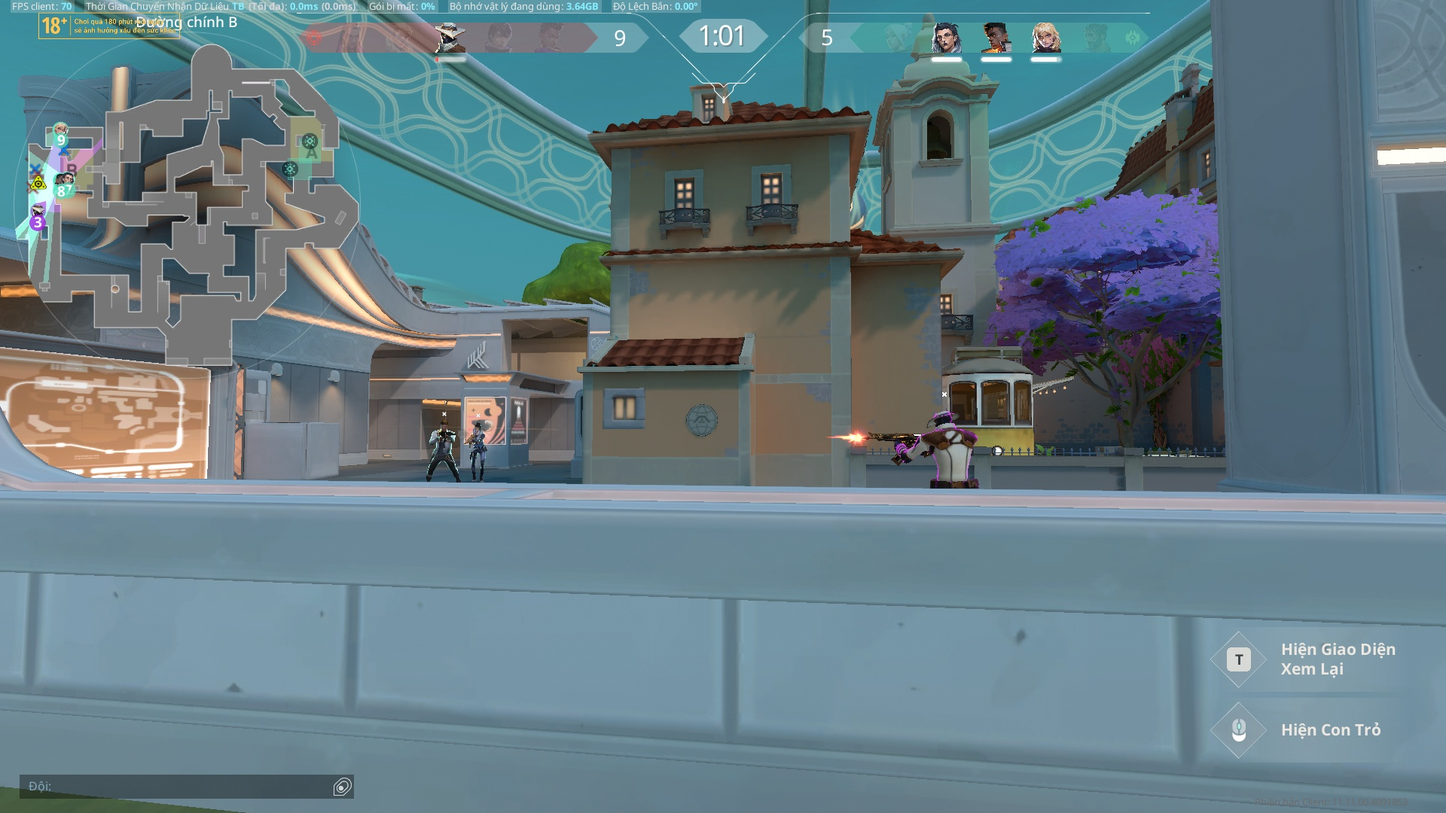body: (923, 426, 975, 479)
head: (931, 411, 956, 428)
